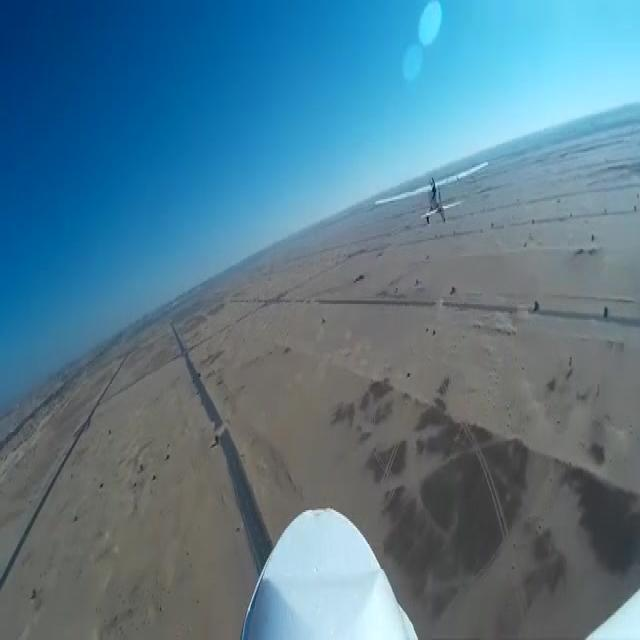iha: (406, 189, 457, 195)
